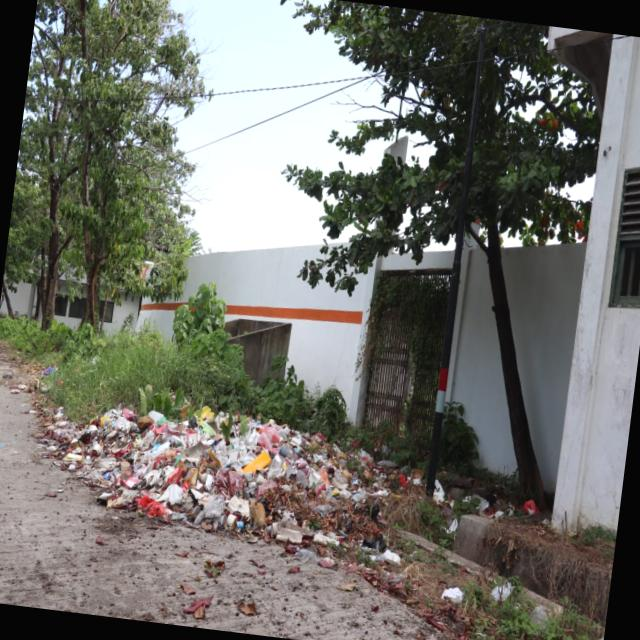garbage: (44, 380, 435, 558)
